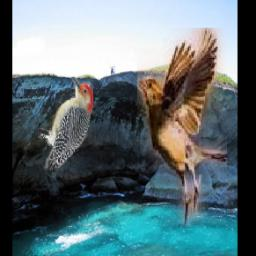Sparrow: (137, 28, 227, 228)
Woodpecker: (35, 77, 93, 170)
